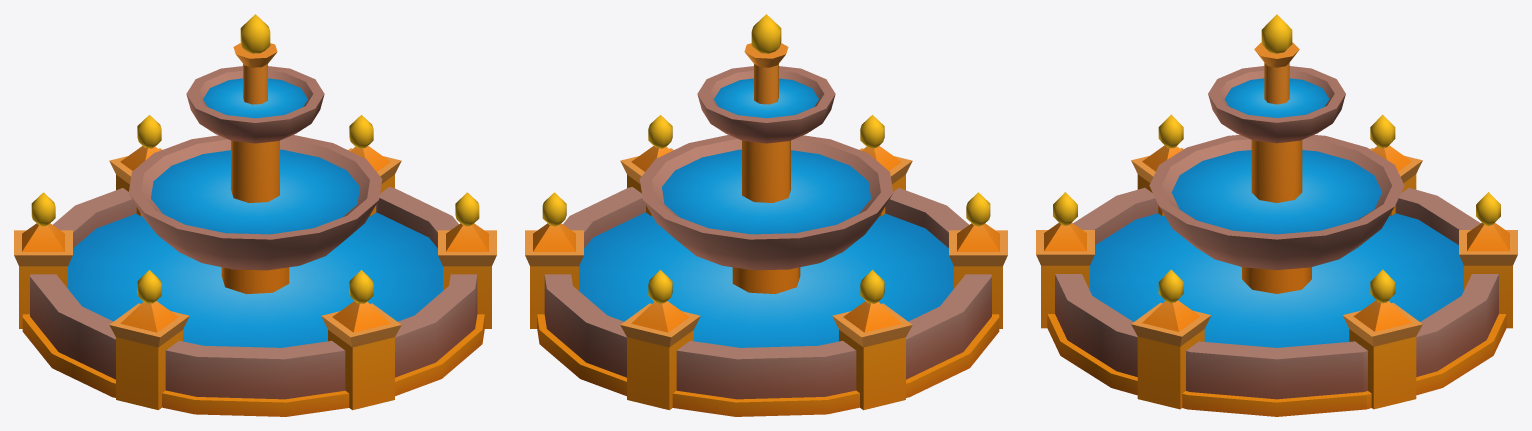
The model's file is fountain_001.glb.
The picture shows the model from 3 angles, left to right: view 1: azimuth 30°, elevation 25°; view 2: azimuth 150°, elevation 25°; view 3: azimuth 270°, elevation 25°; orthographic projection.
Visible parts, largest first — view 1: fountain_001; view 2: fountain_001; view 3: fountain_001.
Boxes of the visible parts, <box> form: fountain_001: <box>14,14,496,416</box>; fountain_001: <box>525,14,1007,416</box>; fountain_001: <box>1036,14,1517,416</box>.
Bounding box in the file's own units: 7.04 × 5.07 × 7.24.
Materials: 1 (1 with a texture image).
